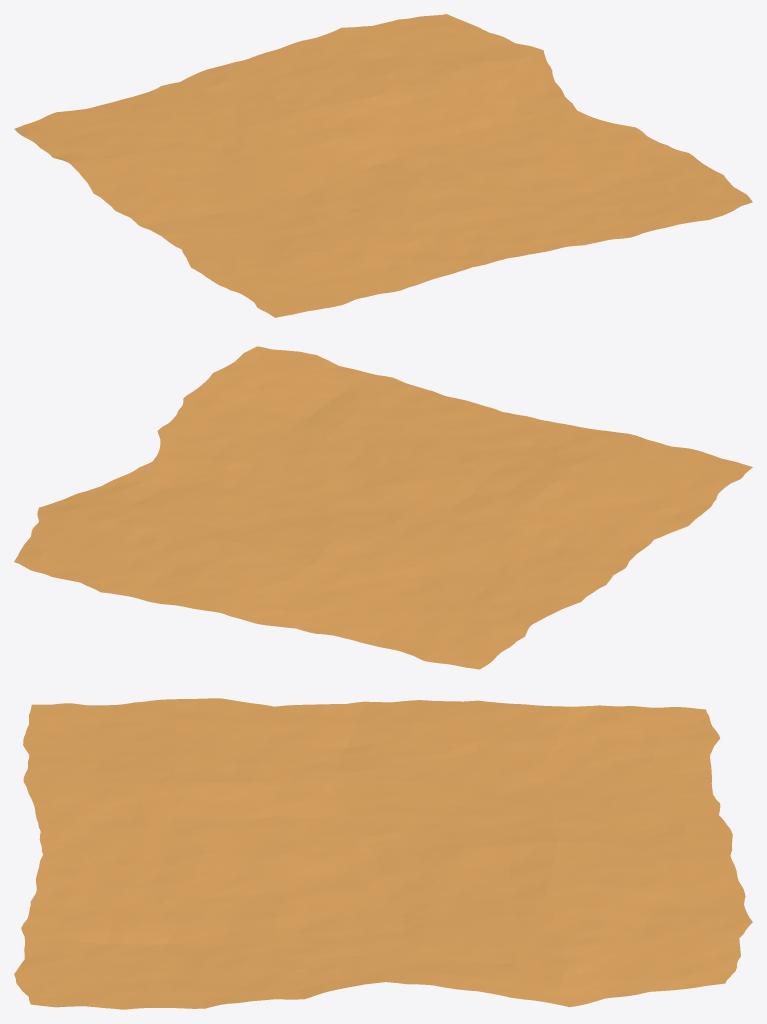
3 views of the same model, one above another, from view 1: azimuth 30°, elevation 25°; view 2: azimuth 150°, elevation 25°; view 3: azimuth 270°, elevation 25° (orthographic). The views are drawn at different scales.
Visible parts, largest first — view 1: Environment_1; view 2: Environment_1; view 3: Environment_1.
Part boxes in pixels (x1=…): Environment_1: x1=14, y1=14, x2=752, y2=317; Environment_1: x1=14, y1=346, x2=752, y2=669; Environment_1: x1=14, y1=698, x2=752, y2=1009.
Size of the model in its own units: 42846 by 459 by 43094.
